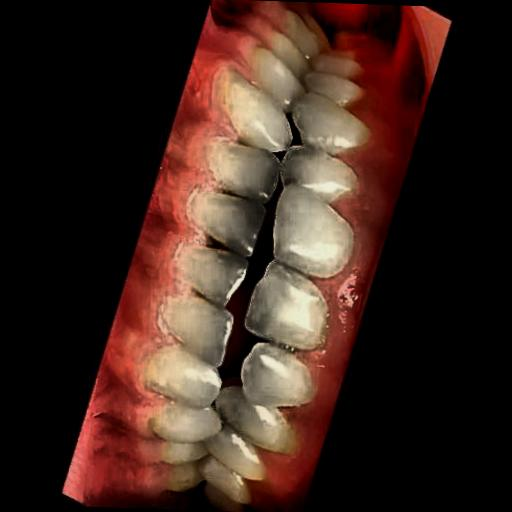Healthy: (134, 74, 353, 483)
